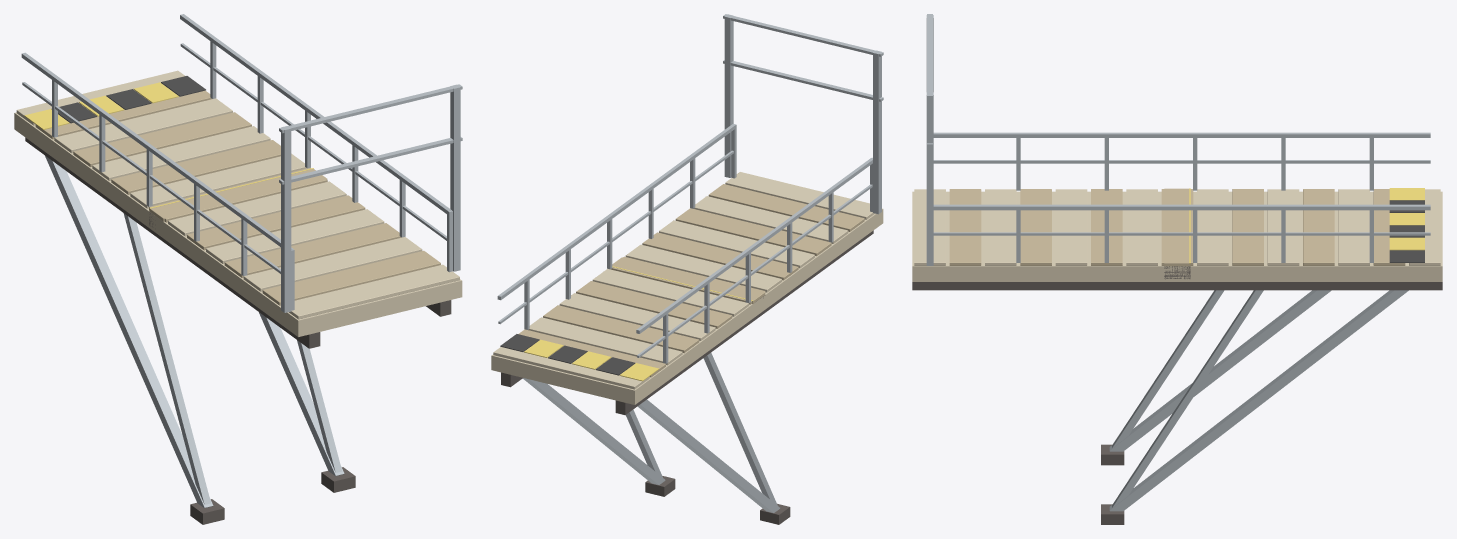
File: island_exit.glb
The picture shows the model from 3 angles, left to right: view 1: azimuth 30°, elevation 25°; view 2: azimuth 150°, elevation 25°; view 3: azimuth 270°, elevation 25°; orthographic projection. The views are drawn at different scales.
Parts seen in each view (by area): view 1: ib_deck_mesh, ib_step_mesh; view 2: ib_deck_mesh, ib_step_mesh; view 3: ib_deck_mesh, ib_step_mesh.
Boxes of the visible parts, x1=… form: ib_deck_mesh: x1=14, y1=14, x2=462, y2=524; ib_step_mesh: x1=149, y1=168, x2=327, y2=226; ib_deck_mesh: x1=491, y1=14, x2=883, y2=524; ib_step_mesh: x1=612, y1=257, x2=765, y2=303; ib_deck_mesh: x1=912, y1=14, x2=1442, y2=524; ib_step_mesh: x1=1164, y1=188, x2=1190, y2=279.
Size of the model in its own units: 3.3 by 8.15 by 9.
